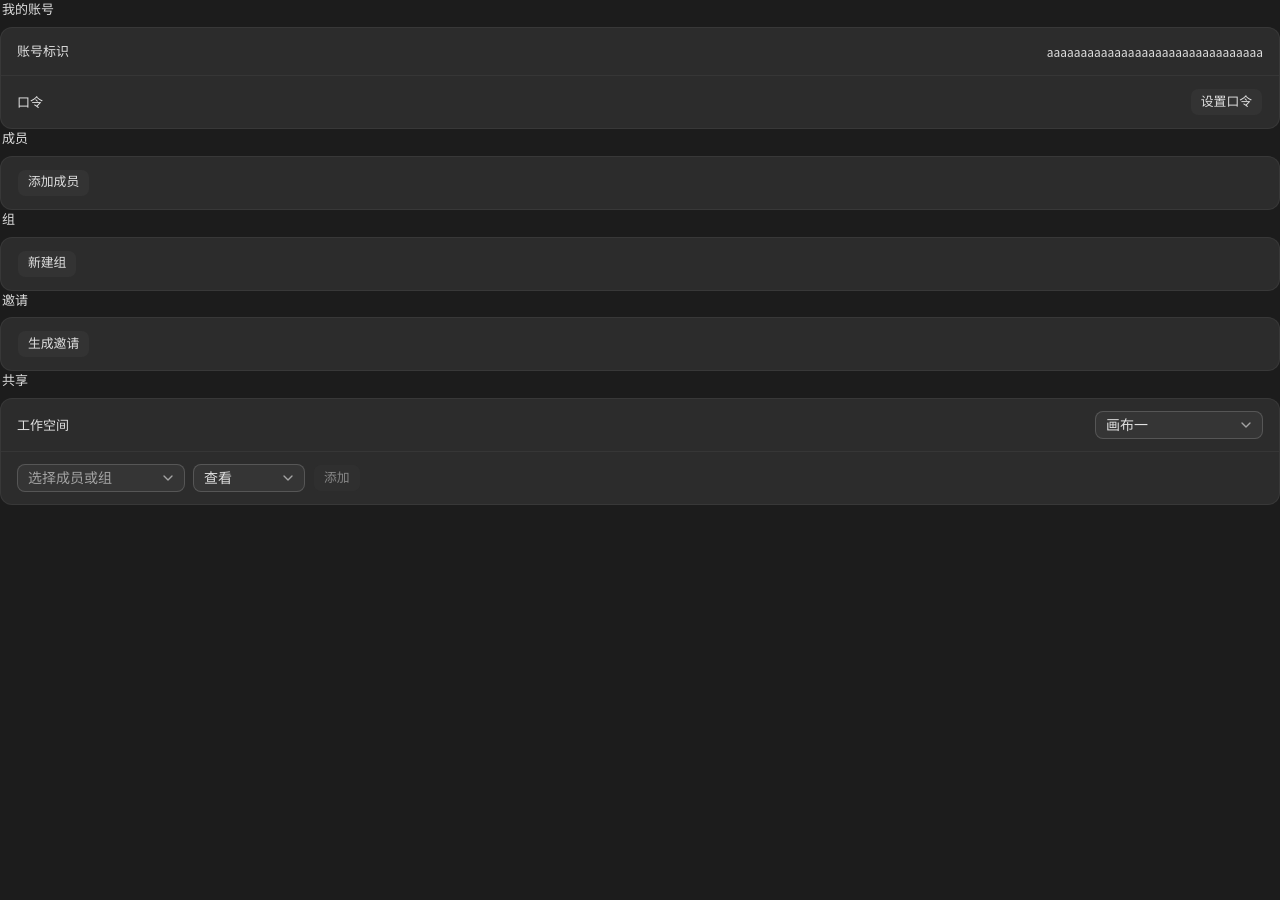
Test case: 设置 → 账号与共享 › 生成邀请之后给出落在页面根片段上的链接
Click the button "生成邀请".
click(54, 344)  # box [17,330,90,358]
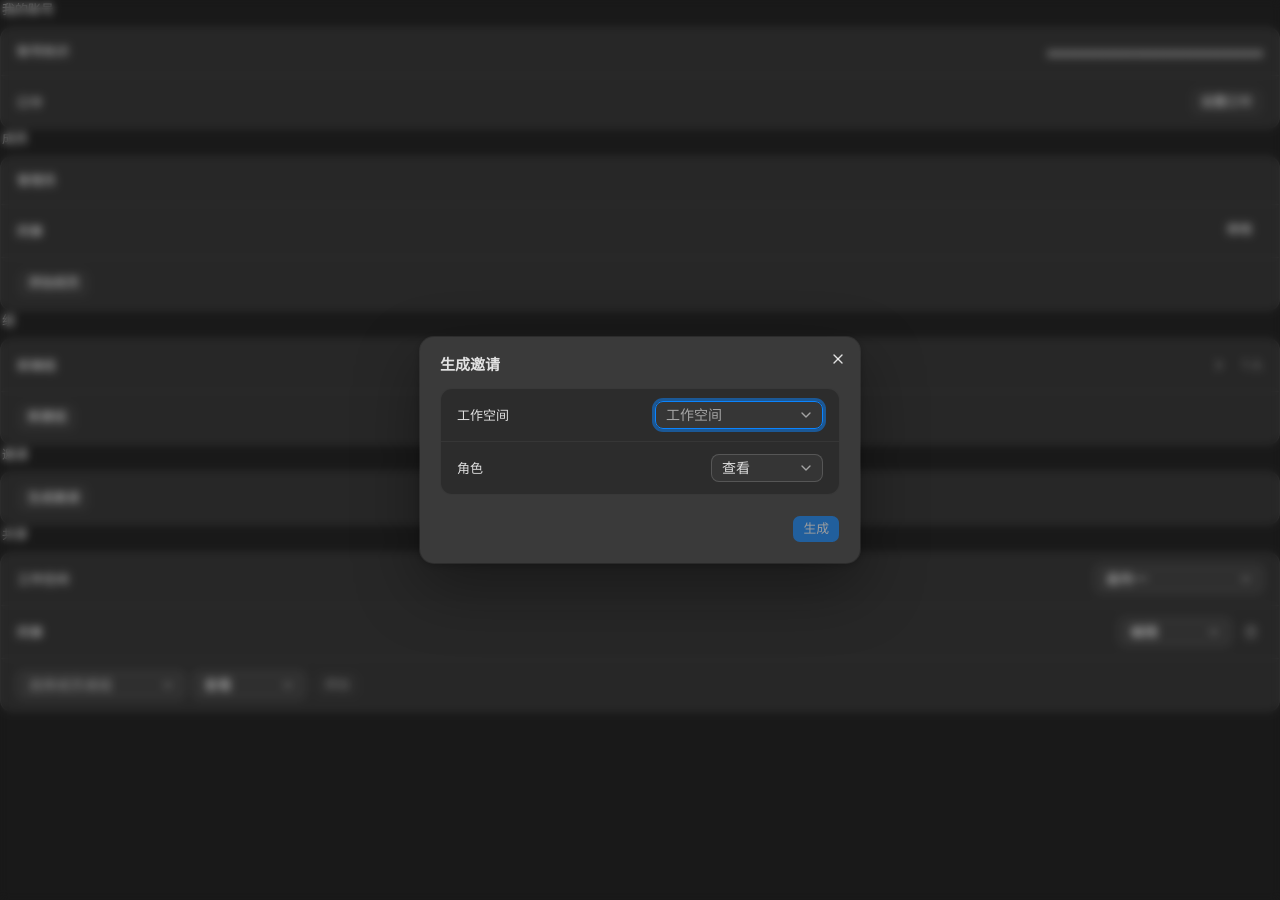
Expected: the button "生成" is disabled, [792,515,840,543]
